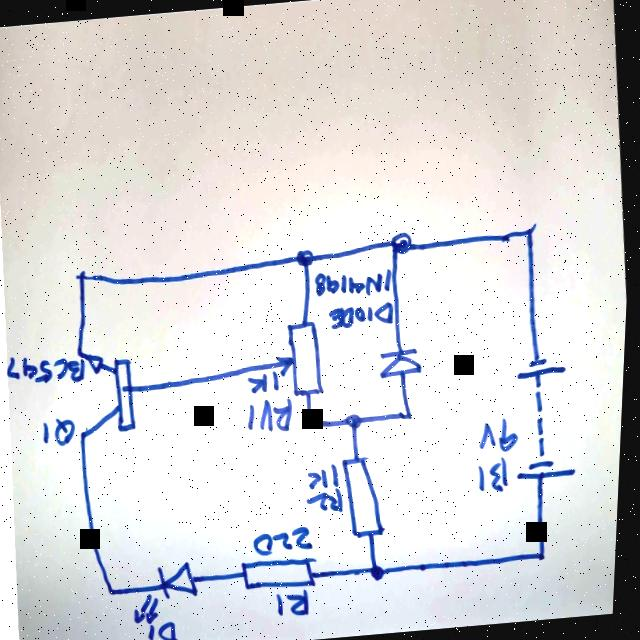diode: (133, 559, 209, 631), (379, 346, 429, 381)
junction: (390, 228, 417, 258), (346, 409, 369, 433), (371, 558, 394, 582), (296, 246, 318, 270), (522, 220, 541, 243), (108, 583, 127, 602), (75, 268, 94, 286), (539, 548, 555, 565), (305, 416, 321, 433), (404, 406, 419, 423), (77, 347, 89, 360), (81, 428, 93, 440)
resistor: (275, 320, 331, 400), (342, 454, 394, 540), (243, 551, 326, 594)
source: (516, 454, 585, 486), (518, 354, 572, 382)
text: (8, 346, 91, 389), (316, 266, 397, 300), (254, 526, 321, 559), (330, 300, 399, 332), (248, 397, 300, 435), (481, 416, 525, 455), (479, 456, 515, 495), (310, 486, 351, 517), (45, 415, 82, 448), (279, 588, 316, 618), (311, 463, 346, 492), (249, 370, 284, 396), (154, 620, 185, 640)
transistor: (87, 347, 147, 437)
